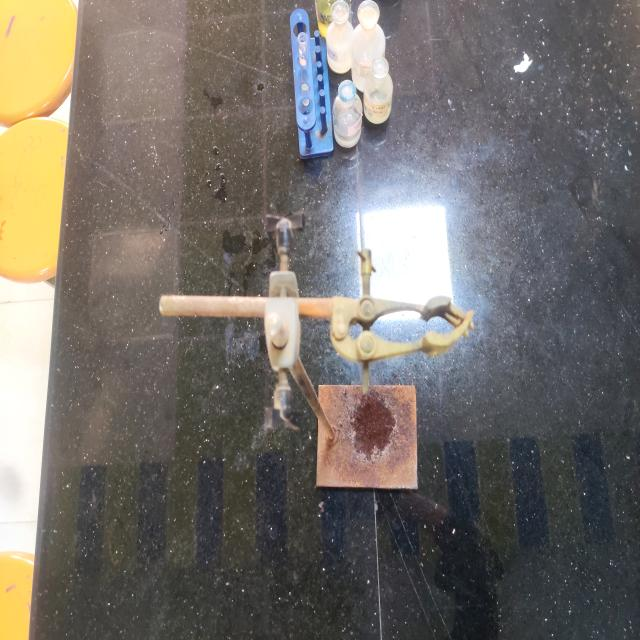Burette_Stands: (149, 210, 482, 530)
